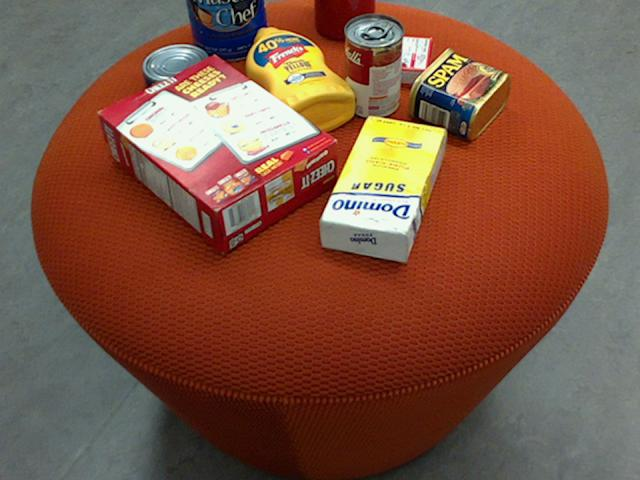cracker_box: (95, 52, 337, 251)
gelatin_box: (357, 34, 432, 86)
large_marker: (337, 0, 352, 33)
master_chef_can: (184, 0, 268, 59)
mug: (313, 0, 374, 39)
mustard_bottle: (245, 27, 353, 136)
potted_meat_can: (406, 48, 508, 140)
sugar_box: (320, 114, 445, 263)
tomato_soup_can: (344, 13, 403, 118)
tuna_fish_can: (139, 44, 212, 103)
